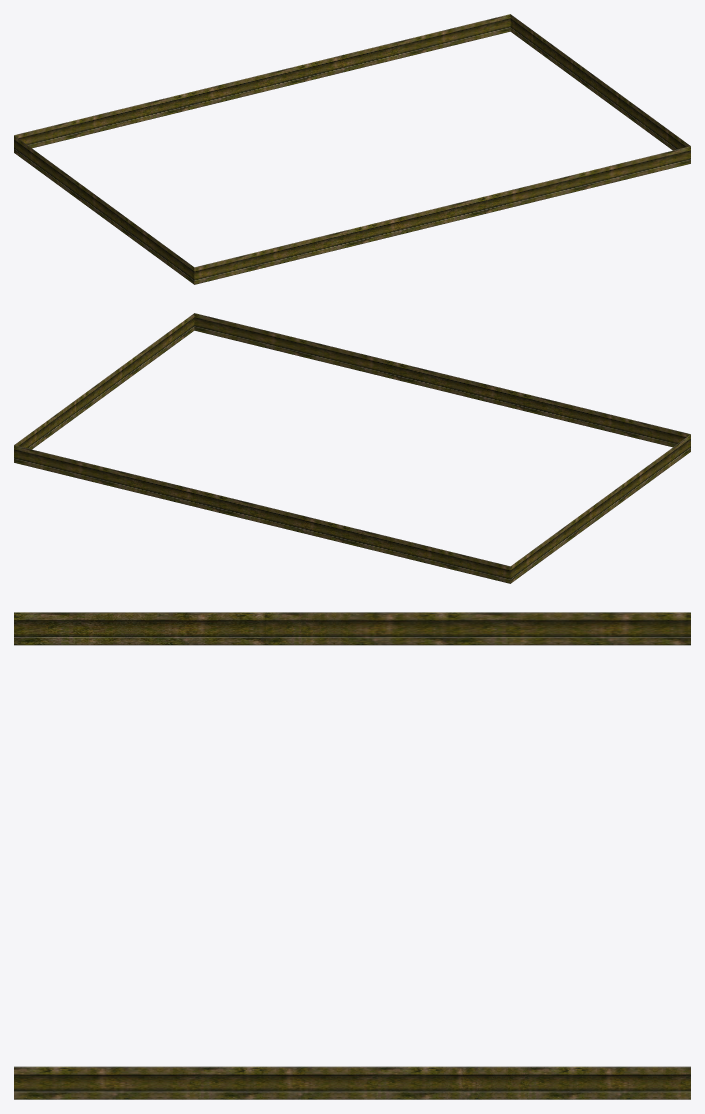
The model's file is OVERHILL_A_01_OBJECT115.fbx.
3 views of the same model, one above another, from view 1: azimuth 30°, elevation 25°; view 2: azimuth 150°, elevation 25°; view 3: azimuth 270°, elevation 25° (orthographic). The views are drawn at different scales.
Visible parts, largest first — view 1: OVERHILL_A_01_OBJECT115; view 2: OVERHILL_A_01_OBJECT115; view 3: OVERHILL_A_01_OBJECT115.
Boxes of the visible parts, x1,y1,x2,y2 form: OVERHILL_A_01_OBJECT115: (14,14,690,284); OVERHILL_A_01_OBJECT115: (14,313,690,583); OVERHILL_A_01_OBJECT115: (14,612,690,1099).
Size of the model in its own units: 233927 by 7919 by 147276.
1 material, 1 textured.
